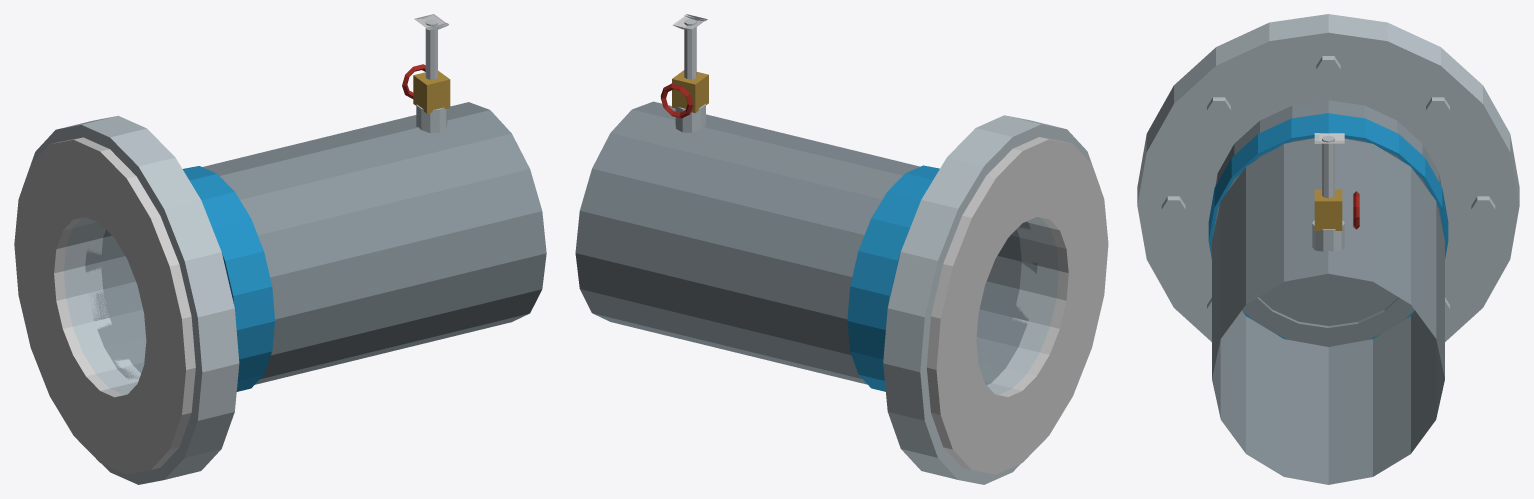
The model's file is cell_5.obj.
The picture shows the model from 3 angles, left to right: view 1: azimuth 30°, elevation 25°; view 2: azimuth 150°, elevation 25°; view 3: azimuth 270°, elevation 25°; orthographic projection. The views are drawn at different scales.
Bounding box in the file's own units: 1 × 0.91 × 0.82.
